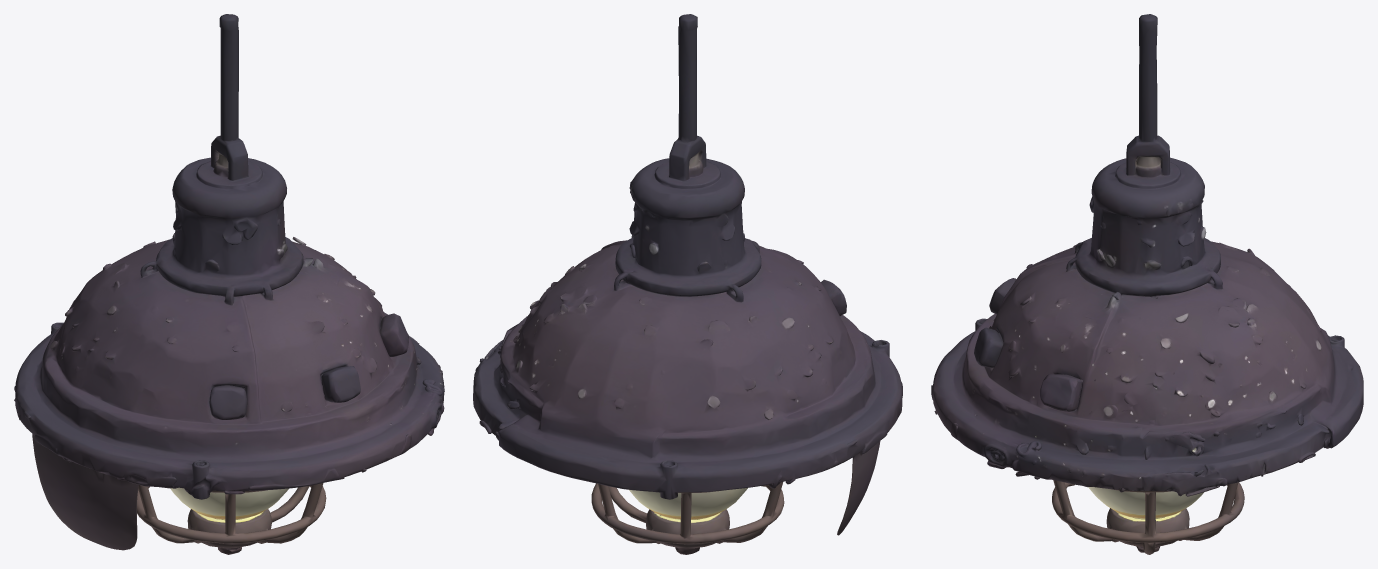
Rendered from lamp_ceiling.glb.
The picture shows the model from 3 angles, left to right: view 1: azimuth 30°, elevation 25°; view 2: azimuth 150°, elevation 25°; view 3: azimuth 270°, elevation 25°; orthographic projection.
Visible parts, largest first — view 1: tripo_node_656b1a2a-5d3d-4ec4-b019-4f45c372124e; view 2: tripo_node_656b1a2a-5d3d-4ec4-b019-4f45c372124e; view 3: tripo_node_656b1a2a-5d3d-4ec4-b019-4f45c372124e.
Boxes of the visible parts, x1,y1,x2,y2 form: tripo_node_656b1a2a-5d3d-4ec4-b019-4f45c372124e: (14, 14, 444, 554); tripo_node_656b1a2a-5d3d-4ec4-b019-4f45c372124e: (473, 14, 902, 554); tripo_node_656b1a2a-5d3d-4ec4-b019-4f45c372124e: (931, 14, 1363, 554).
Bounding box in the file's own units: 0.7162 × 0.9825 × 0.7196.
Materials: 1 (1 with a texture image).
